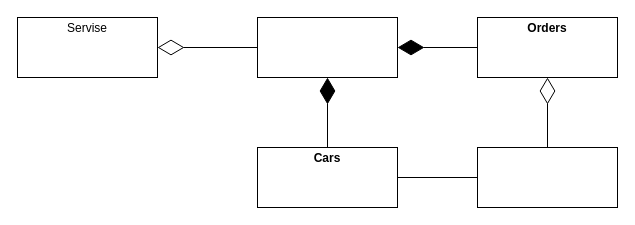
This 635x225 diagram has some shape labels left out. Each missing label, with the centre of its shape:
"Spare_parts" goes at (x=547, y=177).
"User" goes at (x=327, y=47).
